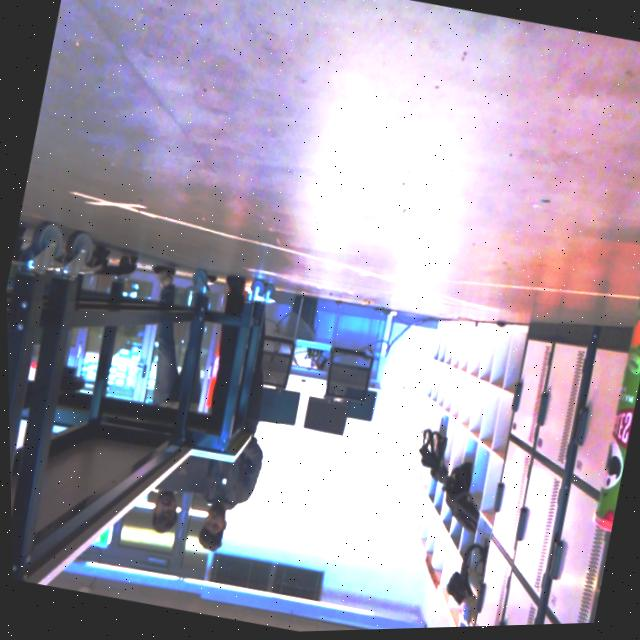greenpringles: (559, 202, 640, 558)
